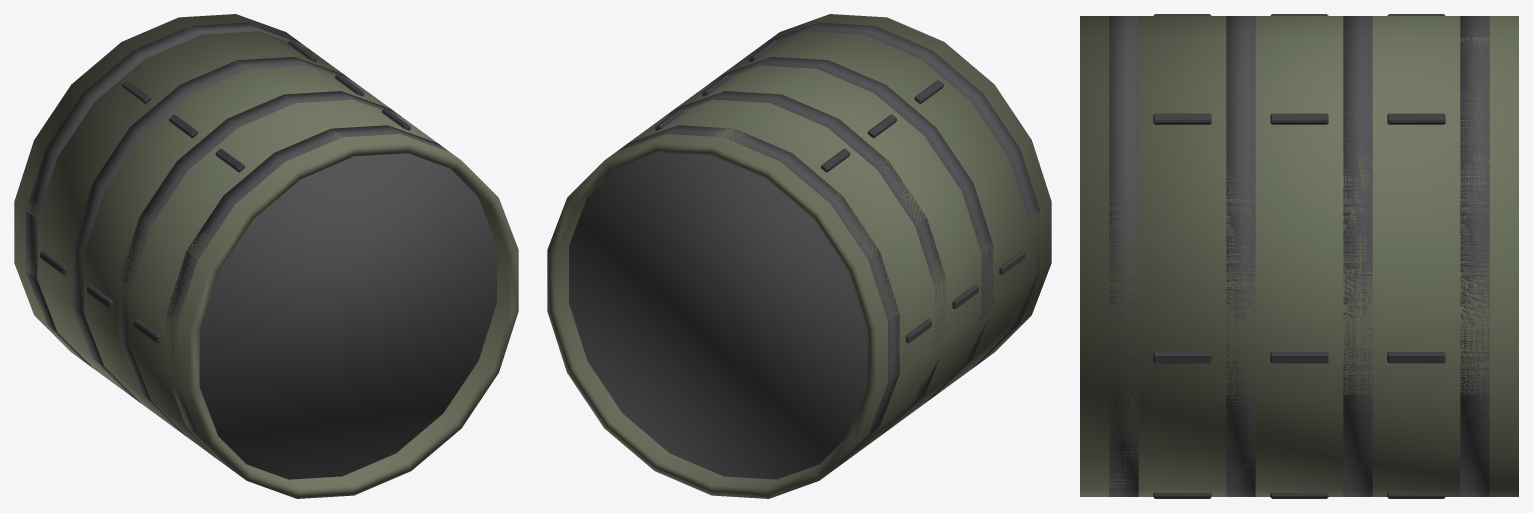
Rendered from part_chladic_mg.glb.
3 renders of one model, left to right at view 1: azimuth 30°, elevation 25°; view 2: azimuth 150°, elevation 25°; view 3: azimuth 270°, elevation 25°, orthographic. The views are drawn at different scales.
Parts seen in each view (by area): view 1: Chladic_mg; view 2: Chladic_mg; view 3: Chladic_mg.
Boxes of the visible parts, <box> form: Chladic_mg: <box>14,14,518,498</box>; Chladic_mg: <box>547,14,1051,498</box>; Chladic_mg: <box>1080,14,1518,498</box>.
Bounding box in the file's own units: 0.133 × 0.132 × 0.12.
